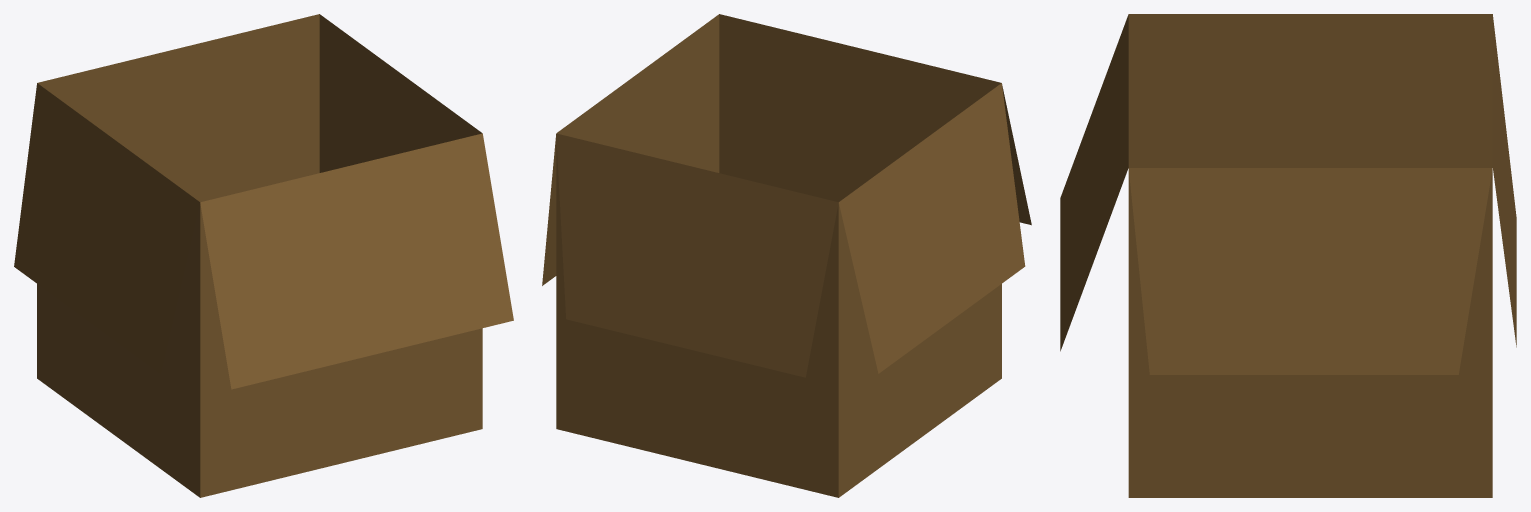
Rendered from Caixa1.fbx.
3 renders of one model, left to right at view 1: azimuth 30°, elevation 25°; view 2: azimuth 150°, elevation 25°; view 3: azimuth 270°, elevation 25°, orthographic. The views are drawn at different scales.
Parts seen in each view (by area): view 1: Cube.071; view 2: Cube.071; view 3: Cube.071.
Boxes of the visible parts, box(x1,y1,x2,y2) form: Cube.071: box(14, 14, 513, 497); Cube.071: box(542, 14, 1031, 497); Cube.071: box(1060, 14, 1516, 497).
Bounding box in the file's own units: 317 × 261 × 327.
